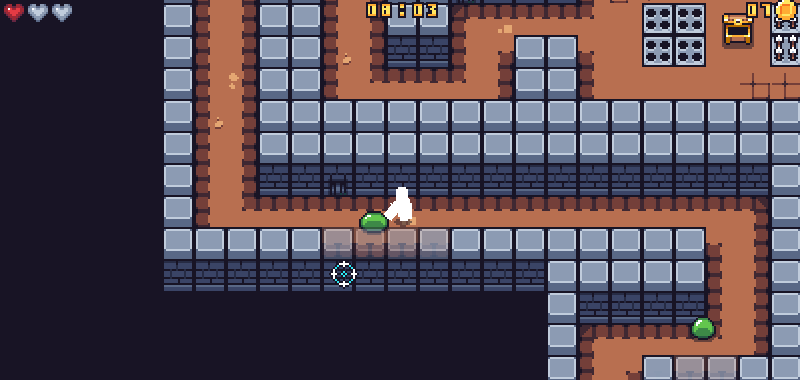enemy_slug: (689, 314, 717, 342), (357, 209, 388, 234)
trap_off: (642, 2, 707, 65)
trap_on: (769, 2, 800, 65)
treasury_open: (719, 10, 756, 49)
